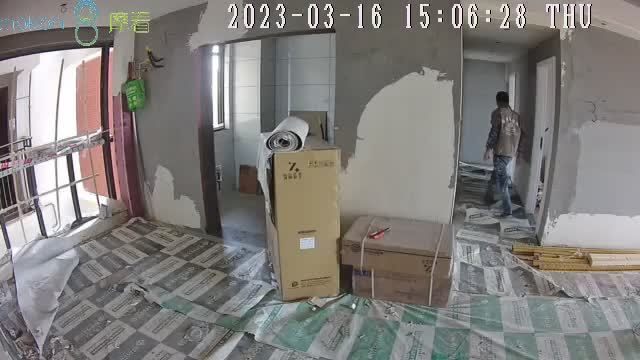people: (484, 91, 521, 218)
window: (2, 48, 113, 259)
